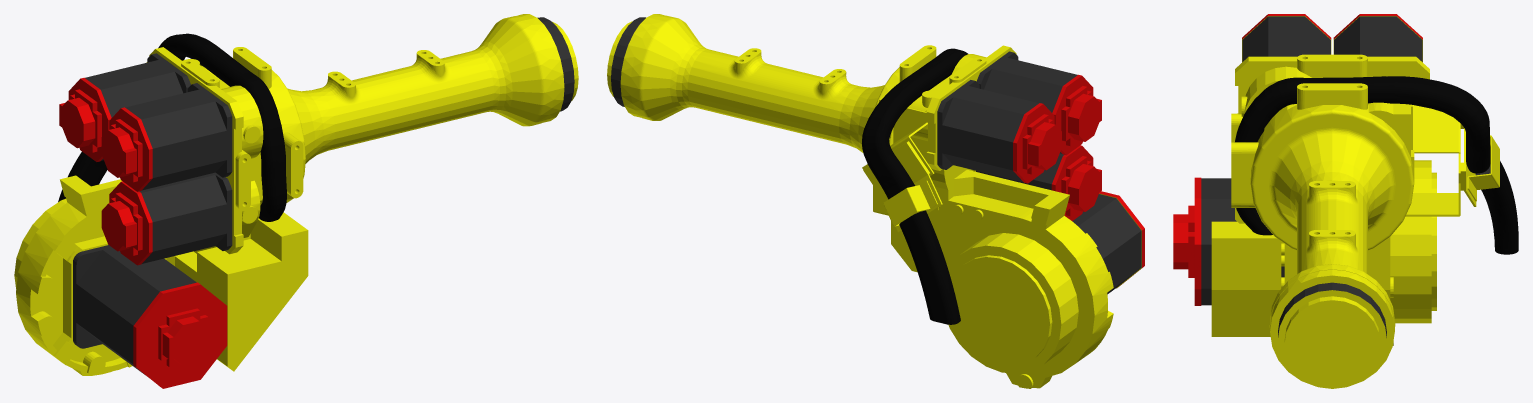
The picture shows the model from 3 angles, left to right: view 1: azimuth 30°, elevation 25°; view 2: azimuth 150°, elevation 25°; view 3: azimuth 270°, elevation 25°; orthographic projection. The views are drawn at different scales.
Parts seen in each view (by area): view 1: New object; view 2: New object; view 3: New object.
Part boxes in pixels (<box>): New object: <box>14,14,578,388</box>; New object: <box>607,14,1144,388</box>; New object: <box>1173,14,1518,388</box>.
Size of the model in its own units: 0.987 by 0.5064 by 0.538.
